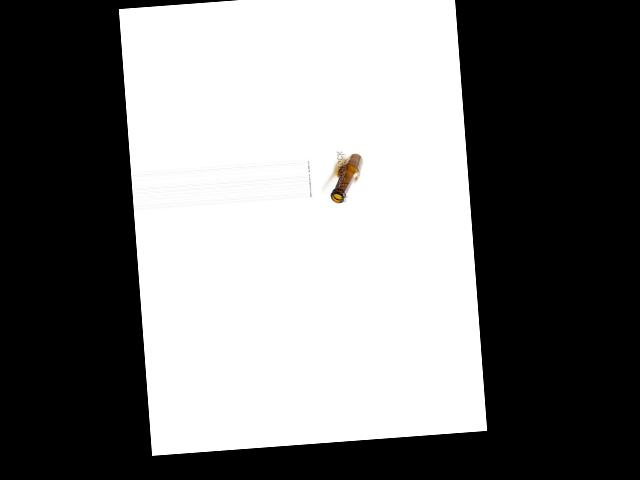beer: (327, 152, 365, 203)
